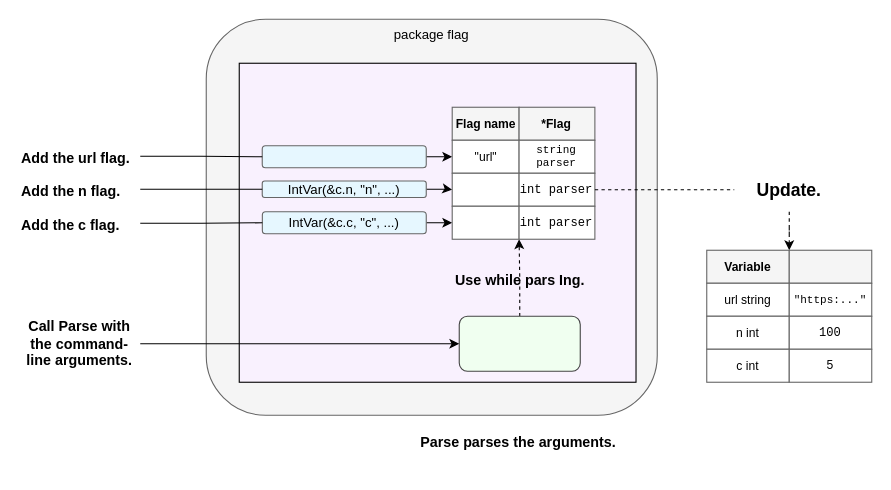
Some shapes in this 891 by 490 pixel diagram are drawn without their labels. The box of each missing label's shape, as (x1, y1, x2, y2) in pixels:
"c": (451, 205, 519, 239)
"n": (451, 172, 519, 206)
*FlagSet: (238, 62, 636, 382)
Parse(args): (458, 315, 580, 371)
StringVar(&c.url, "url", ...): (261, 145, 426, 168)
Value: (788, 249, 872, 283)
